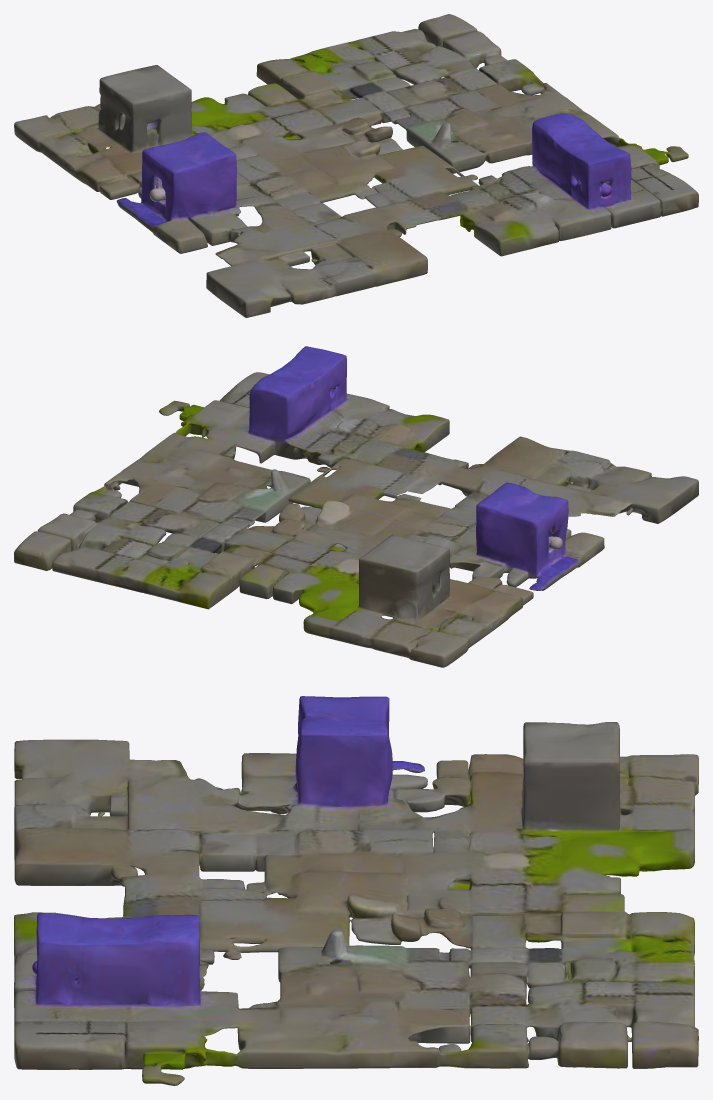
Rendered from ground.glb.
3 renders of one model, top to bottom at view 1: azimuth 30°, elevation 25°; view 2: azimuth 150°, elevation 25°; view 3: azimuth 270°, elevation 25°, orthographic. The views are drawn at different scales.
Visible parts, largest first — view 1: tripo_node_19726864-8ada-4f50-a234-3697423f7151; view 2: tripo_node_19726864-8ada-4f50-a234-3697423f7151; view 3: tripo_node_19726864-8ada-4f50-a234-3697423f7151.
Part boxes in pixels (left/top/right/bottom): tripo_node_19726864-8ada-4f50-a234-3697423f7151: left=14, top=14, right=698, bottom=317; tripo_node_19726864-8ada-4f50-a234-3697423f7151: left=14, top=346, right=698, bottom=667; tripo_node_19726864-8ada-4f50-a234-3697423f7151: left=14, top=696, right=698, bottom=1085.
Bounding box in the file's own units: 0.9999 × 0.1368 × 0.8665.
1 material, 1 textured.
